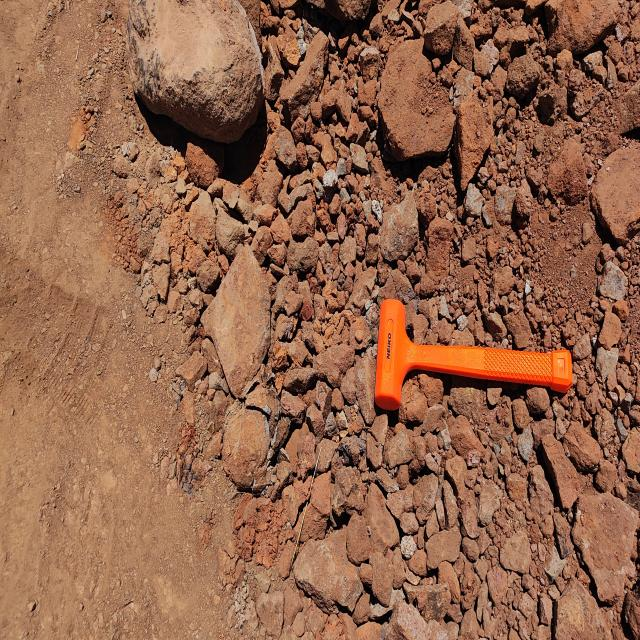Orange_hammer: (374, 297, 573, 412)
rock: (120, 0, 267, 140), (202, 232, 280, 394), (377, 33, 452, 159), (570, 472, 640, 607), (212, 396, 278, 504), (290, 526, 368, 614), (543, 0, 640, 66), (590, 134, 640, 242)
